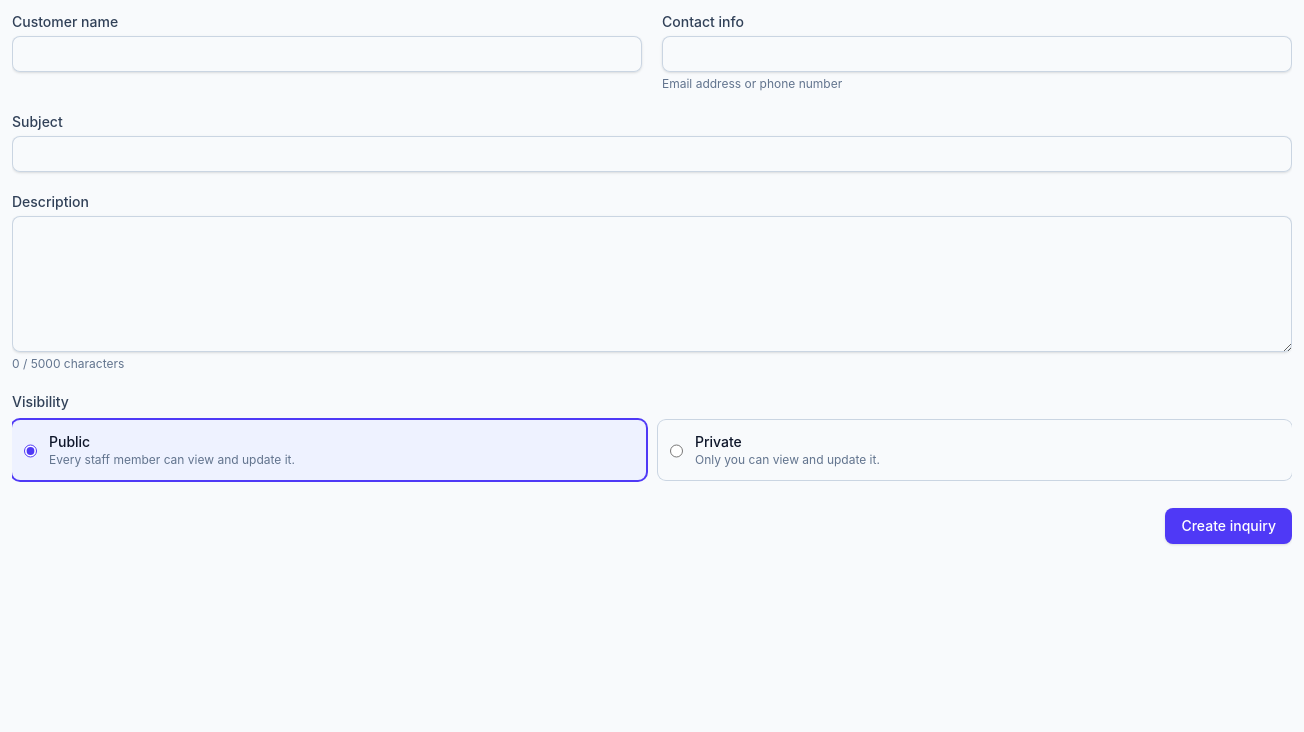
Test: InquiryForm (create inquiry) — Situation 1: invalid customer input › shows a form-level alert for errors that are not about a specific field
In the field labelled "Customer name": (327, 54) 12,36 -> 642,72, type "  John Silva  "
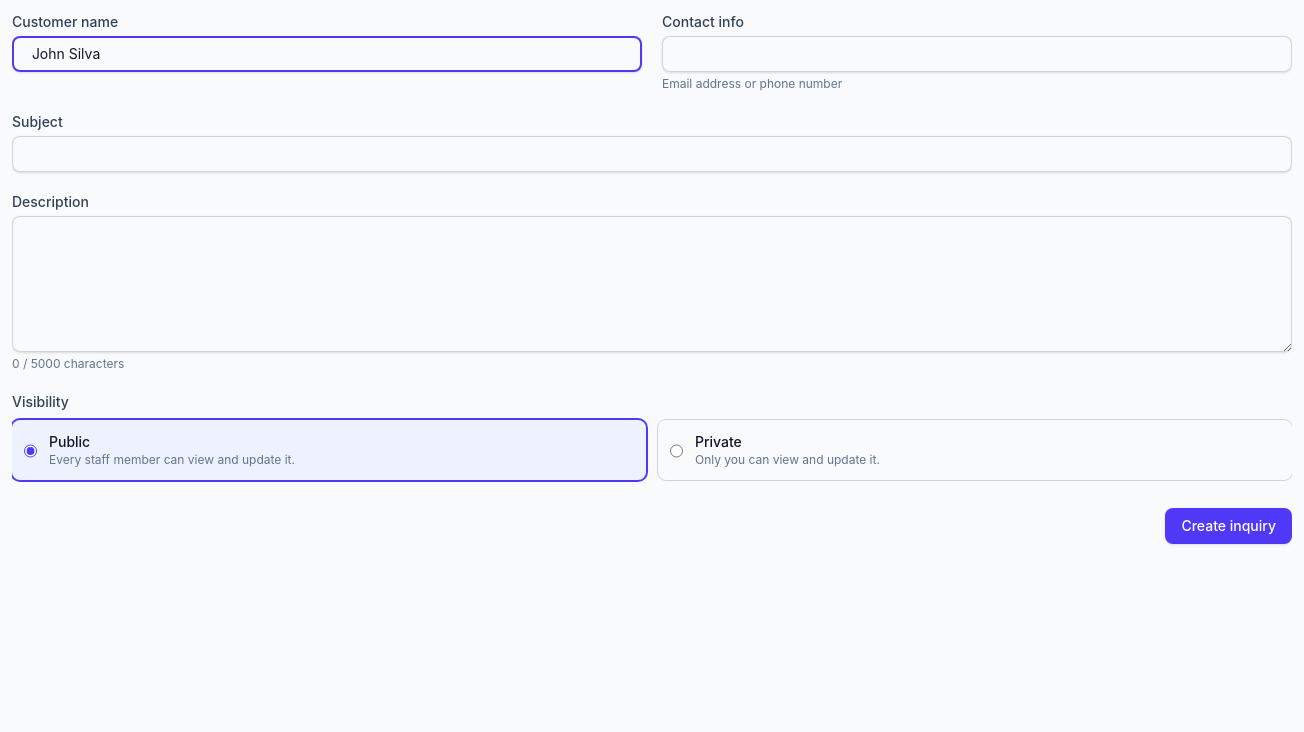
In the field labelled "Contact info": (977, 54) 662,36 -> 1292,72, type "077 123 4567"
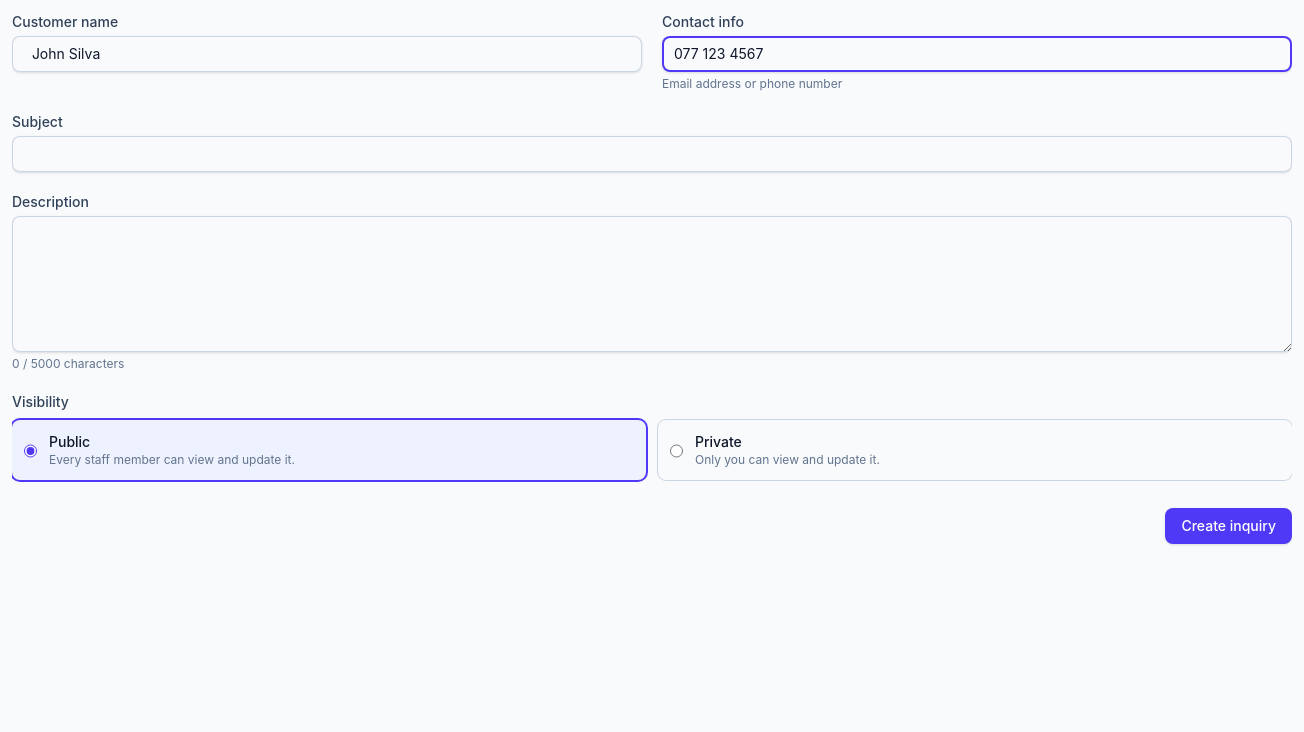
In the field labelled "Subject": (652, 154) 12,136 -> 1292,172, type "Service inquiry"
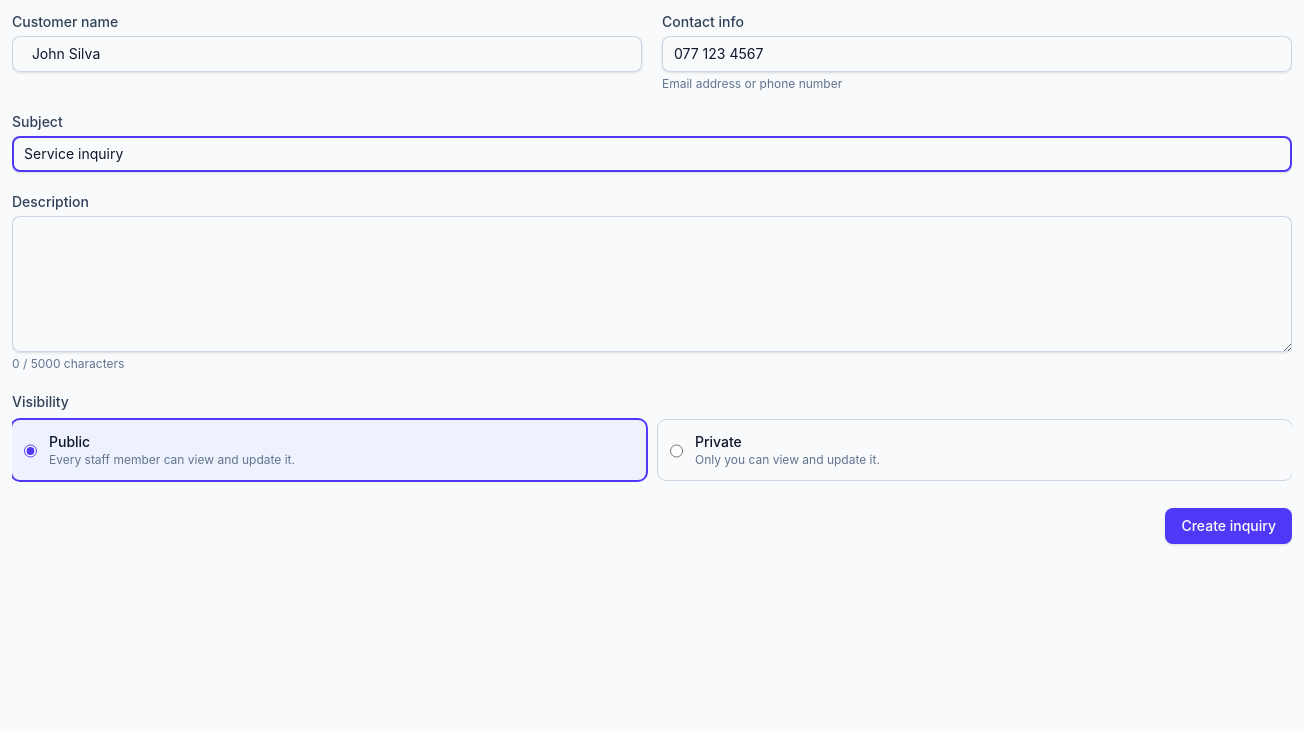
In the text box labelled "Description": (652, 284) 12,216 -> 1292,352, type "Customer wants information about the service."
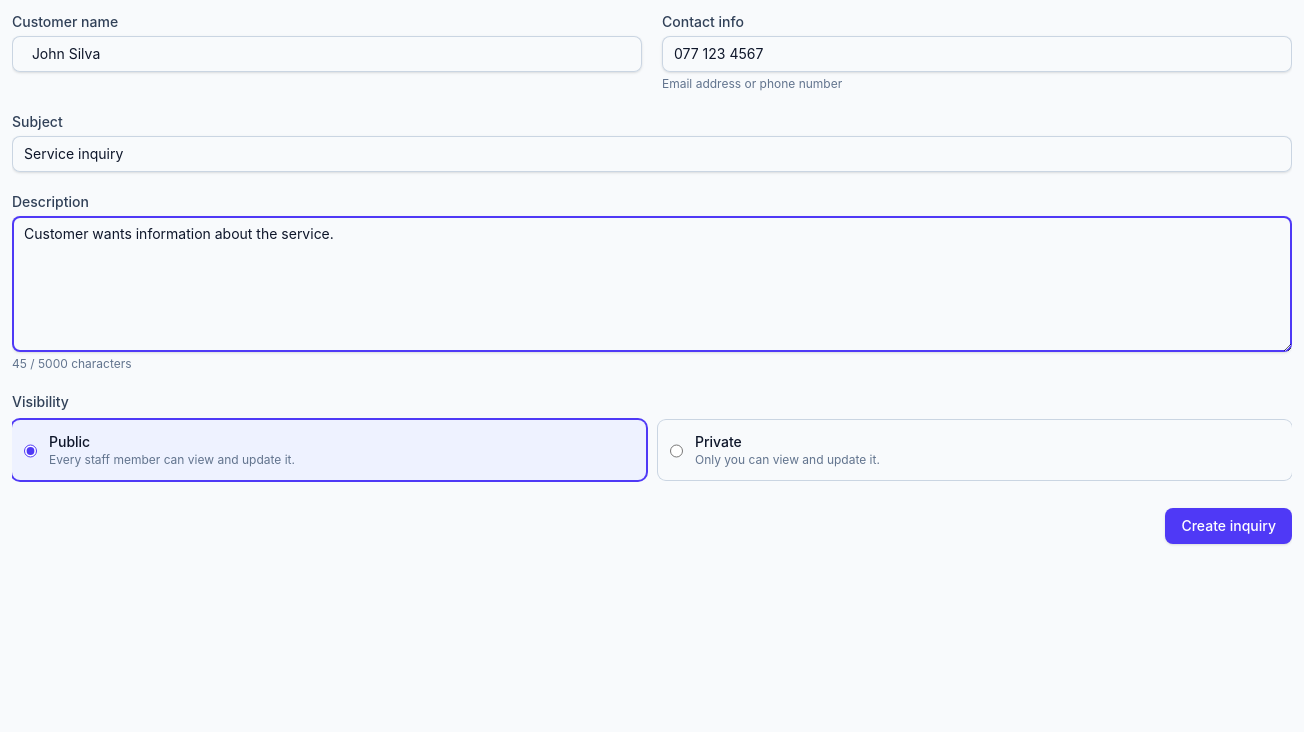
Click the button "Create inquiry": (1229, 526) 1165,508 -> 1292,544
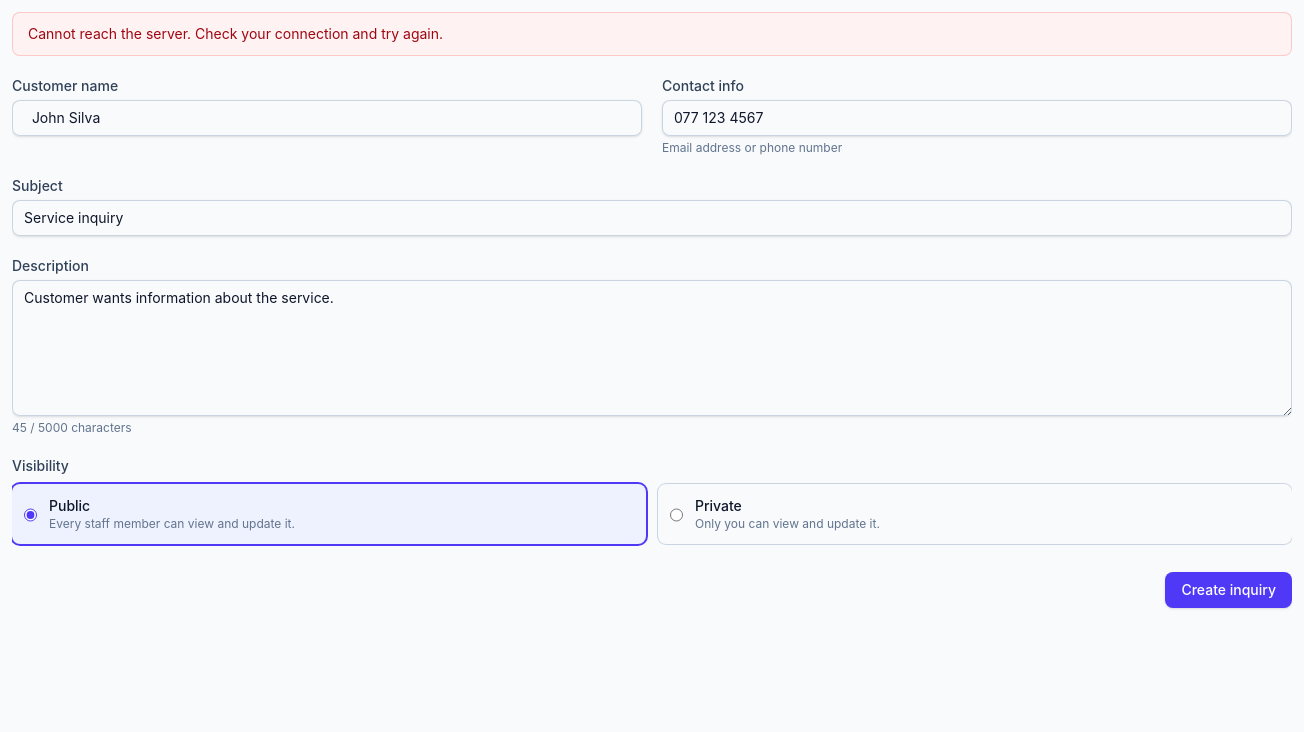
Result: the message shows "Cannot reach the server" at 28,25 -> 443,42
